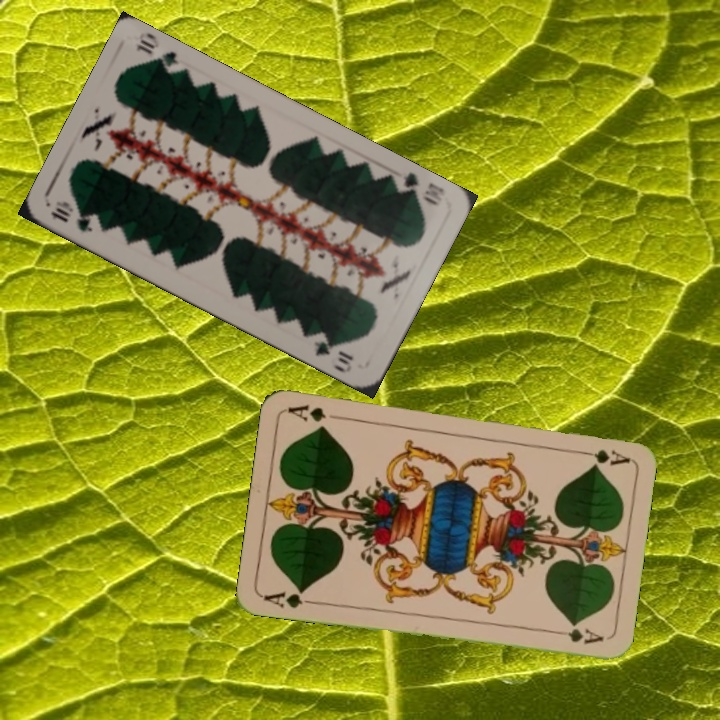G10: (396, 168, 447, 208), (46, 197, 96, 235)
GA: (260, 585, 319, 611), (572, 445, 631, 468)
